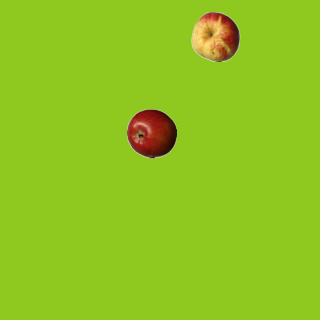Apple Braeburn: (126, 108, 176, 158)
Apple Red Yellow 1: (190, 11, 240, 61)
